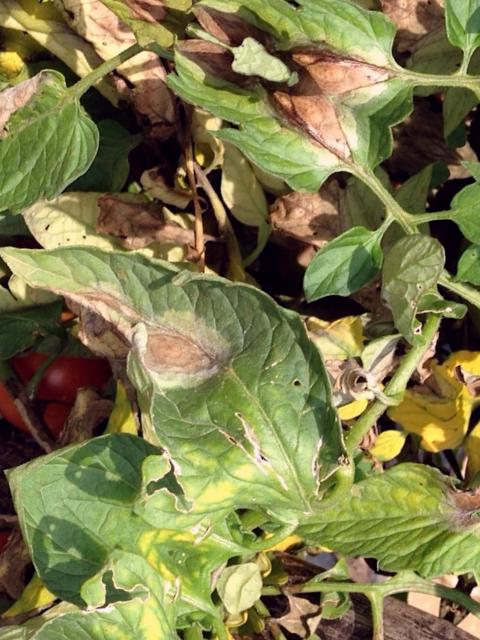Tomato leaf late blight: (0, 185, 415, 561), (147, 27, 412, 220), (277, 401, 480, 616), (0, 34, 131, 300)
